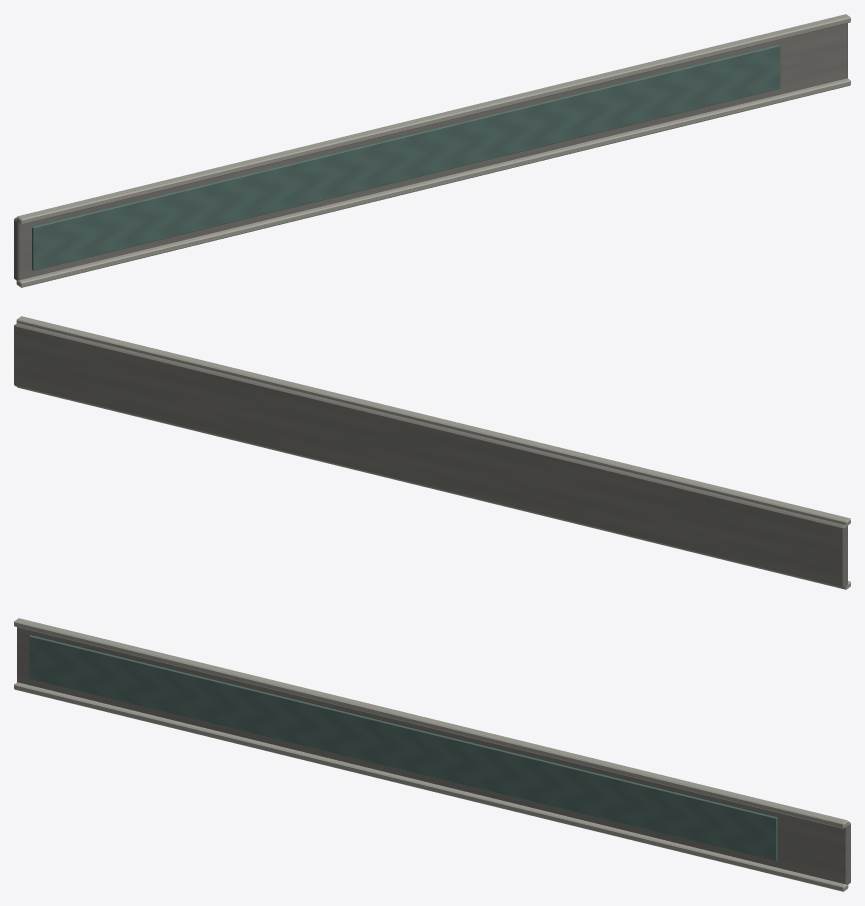
The model's file is D_SignBand_Recessed_visual.glb.
3 views of the same model, one above another, from view 1: azimuth 30°, elevation 25°; view 2: azimuth 150°, elevation 25°; view 3: azimuth 330°, elevation 25° (orthographic).
Parts seen in each view (by area): view 1: D_SignBand_Recessed__VIS; view 2: D_SignBand_Recessed__VIS; view 3: D_SignBand_Recessed__VIS.
Part boxes in pixels (x1,y1,x2,y2): D_SignBand_Recessed__VIS: [14, 14, 850, 287]; D_SignBand_Recessed__VIS: [14, 316, 850, 589]; D_SignBand_Recessed__VIS: [14, 618, 850, 891].
Size of the model in its own units: 24 by 1.9 by 0.385.
Materials: 1 (1 with a texture image).
